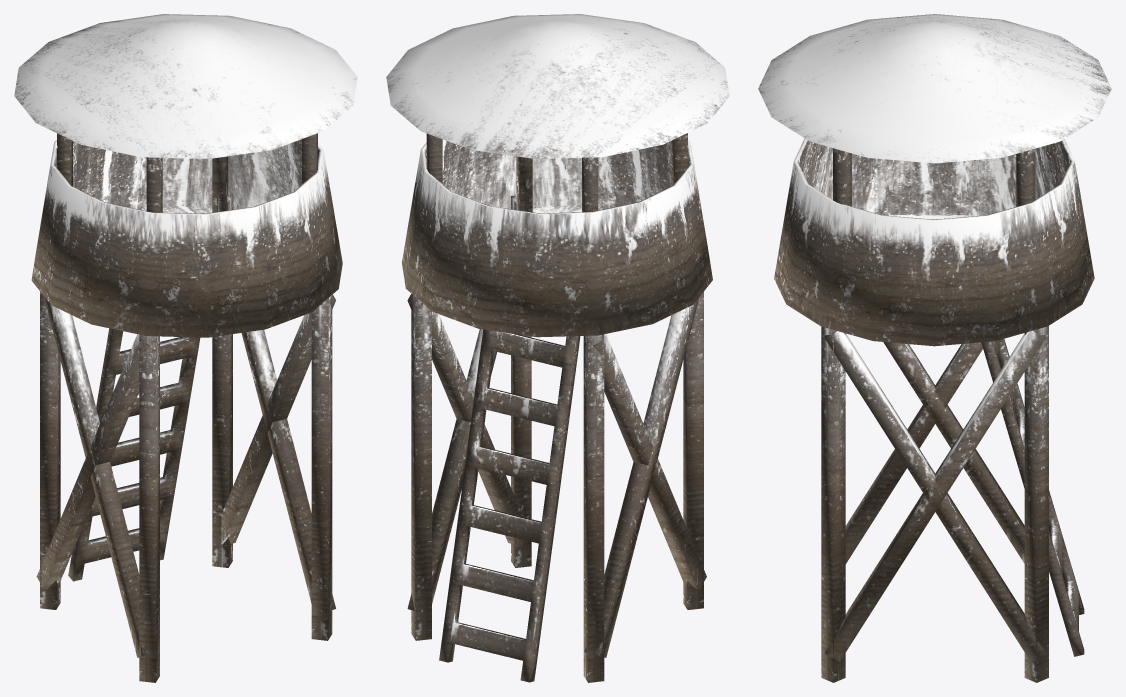
File: watchtower.fbx
3 views of the same model, side by side, from view 1: azimuth 30°, elevation 25°; view 2: azimuth 150°, elevation 25°; view 3: azimuth 270°, elevation 25° (orthographic). The views are drawn at different scales.
Parts seen in each view (by area): view 1: Cylinder013, Cone001, Box009, Object002, Object004, Box008; view 2: Cylinder013, Cone001, Box009, Object002, Object004, Box008; view 3: Cylinder013, Cone001, Object002, Box009, Object004, Box008.
Part boxes in pixels (bbox=[...]): Cylinder013: bbox=[31, 139, 342, 337]; Cone001: bbox=[14, 14, 357, 158]; Box009: bbox=[40, 195, 332, 682]; Object002: bbox=[36, 294, 335, 657]; Object004: bbox=[68, 328, 200, 581]; Box008: bbox=[57, 133, 317, 212]; Cylinder013: bbox=[402, 139, 712, 337]; Cone001: bbox=[386, 14, 729, 158]; Box009: bbox=[411, 195, 703, 682]; Object002: bbox=[407, 293, 706, 657]; Object004: bbox=[439, 329, 580, 682]; Box008: bbox=[426, 133, 687, 212]; Cylinder013: bbox=[774, 138, 1094, 346]; Cone001: bbox=[758, 14, 1111, 163]; Object002: bbox=[825, 330, 1045, 661]; Box009: bbox=[821, 326, 1048, 682]; Object004: bbox=[981, 339, 1084, 656]; Box008: bbox=[833, 148, 1035, 206].
Size of the model in its own units: 82.13 by 154 by 82.13.
